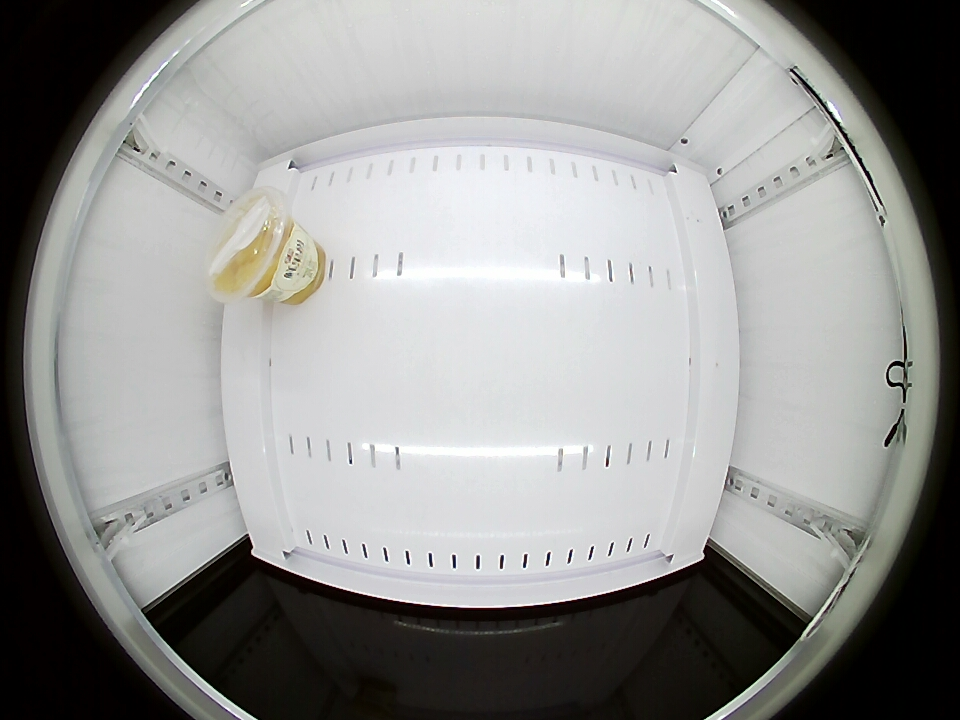xianguolao: (208, 185, 298, 300)
